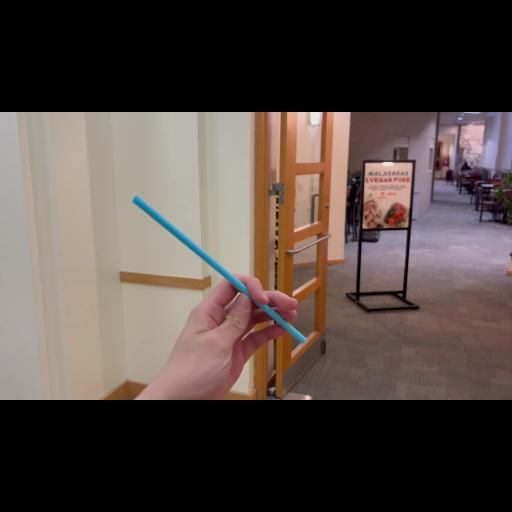straw: (132, 194, 300, 342)
